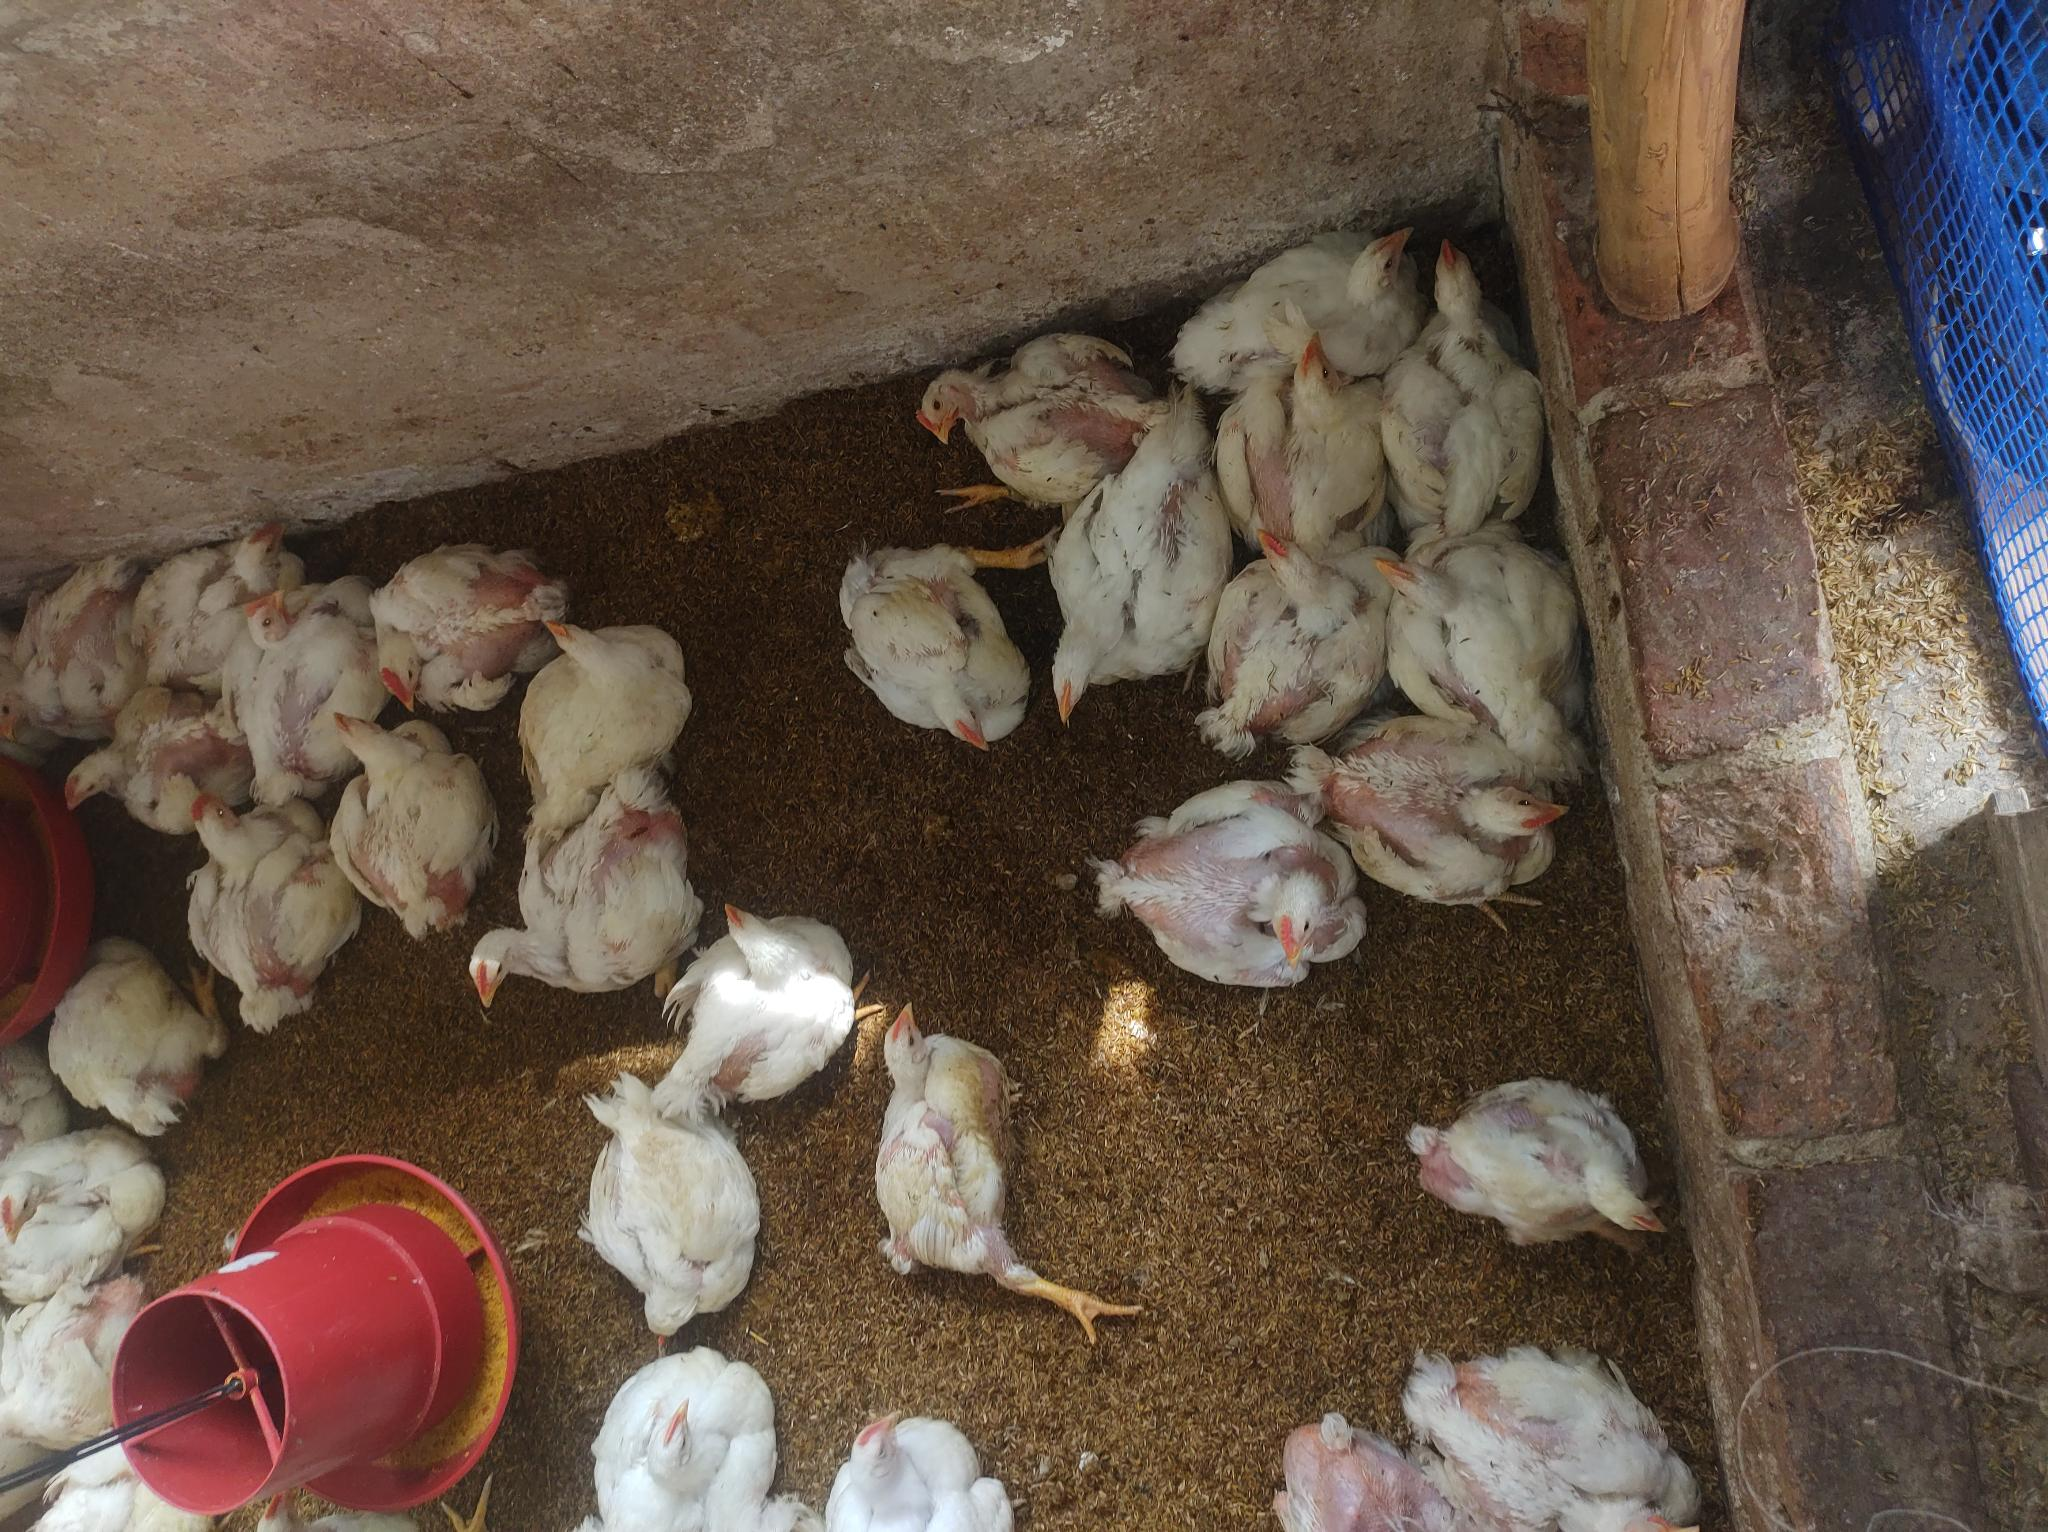Pollos: (859, 998, 1121, 1329), (1393, 1315, 1763, 1532), (463, 772, 722, 1025), (1034, 410, 1226, 719), (1330, 695, 1578, 932), (1078, 779, 1350, 991), (1380, 232, 1557, 549), (1409, 1057, 1692, 1254), (574, 1085, 775, 1347), (1171, 203, 1433, 401), (658, 896, 880, 1130), (177, 790, 376, 1041), (833, 531, 1047, 760), (557, 1324, 785, 1532), (0, 1246, 201, 1476), (1363, 526, 1609, 710), (1186, 526, 1387, 748), (204, 578, 393, 797), (34, 920, 224, 1136), (923, 315, 1125, 513), (541, 587, 701, 834), (331, 710, 504, 937), (782, 1389, 1047, 1532), (1219, 328, 1387, 550), (10, 507, 154, 753), (365, 531, 557, 711), (43, 682, 228, 843), (150, 491, 307, 679), (1239, 1402, 1458, 1532), (0, 1122, 164, 1291), (261, 1445, 510, 1532), (47, 1415, 220, 1532)
